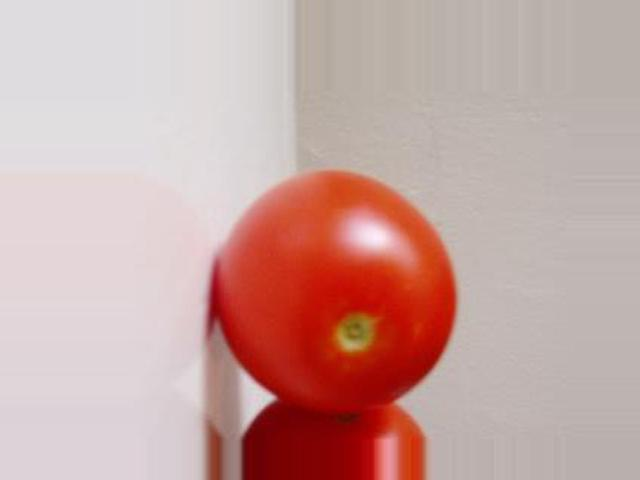tomato: (215, 170, 455, 410)
